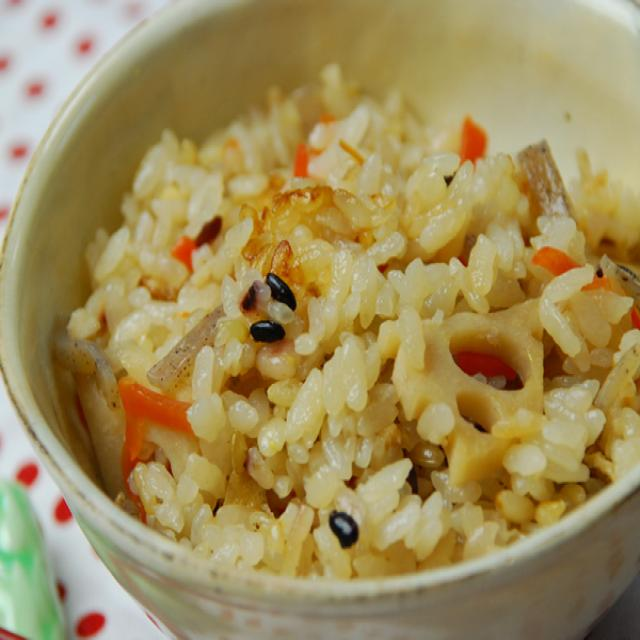米饭主食: (77, 73, 637, 563)
